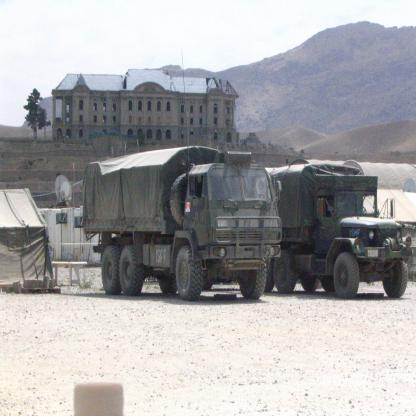Truck: (82, 49, 282, 301), (264, 163, 416, 299)
